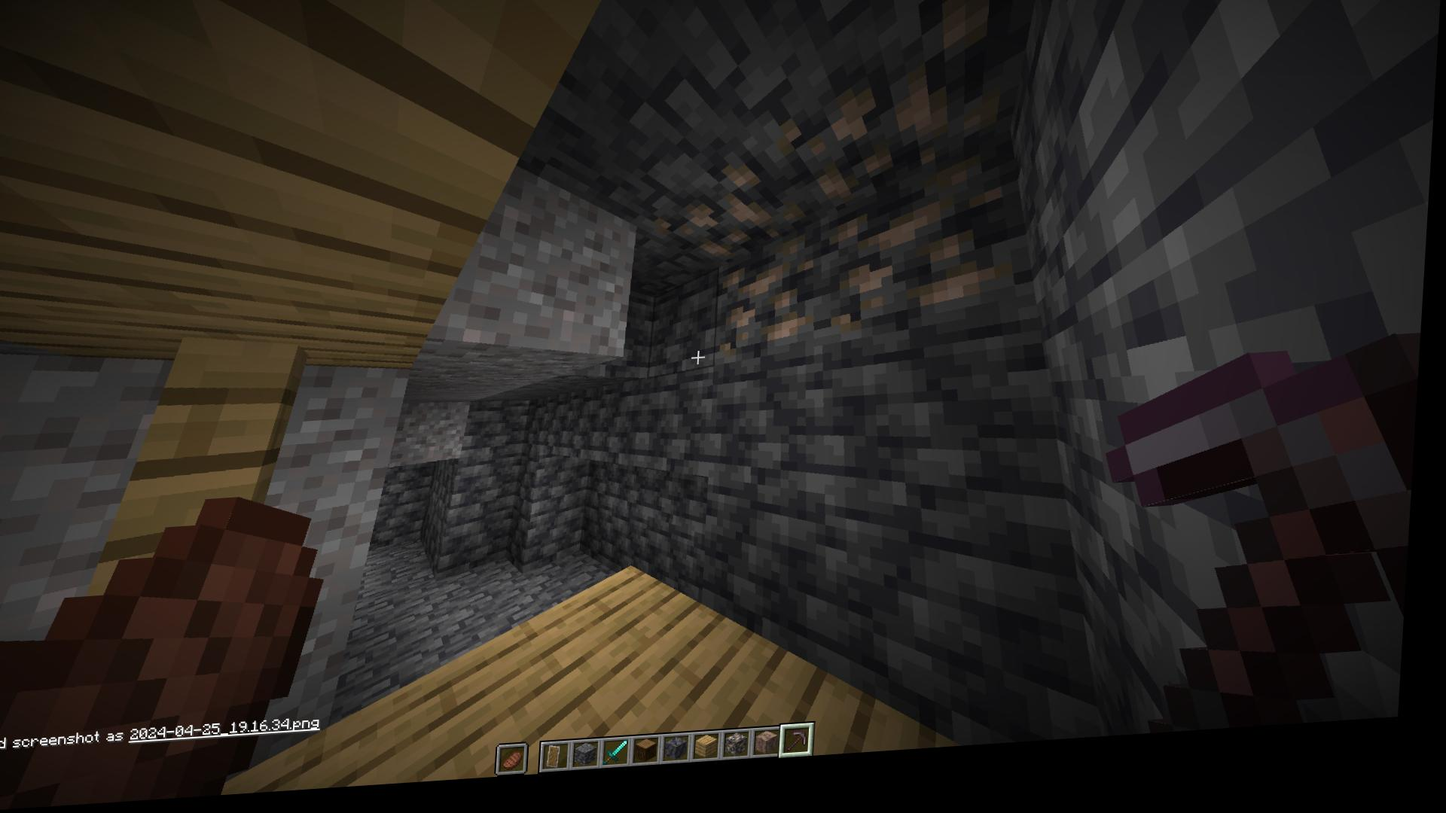iron ore: (780, 7, 1018, 213), (829, 172, 1031, 358), (652, 170, 816, 279), (710, 241, 835, 377)
